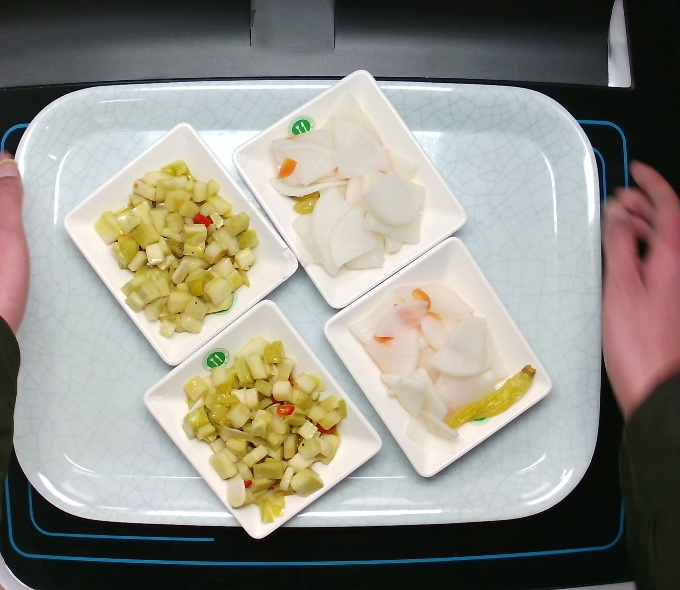wcq-LuLuoBo: (269, 90, 434, 277), (349, 284, 537, 442)
wcq-TangCuOu: (182, 331, 354, 529), (95, 154, 260, 338)
